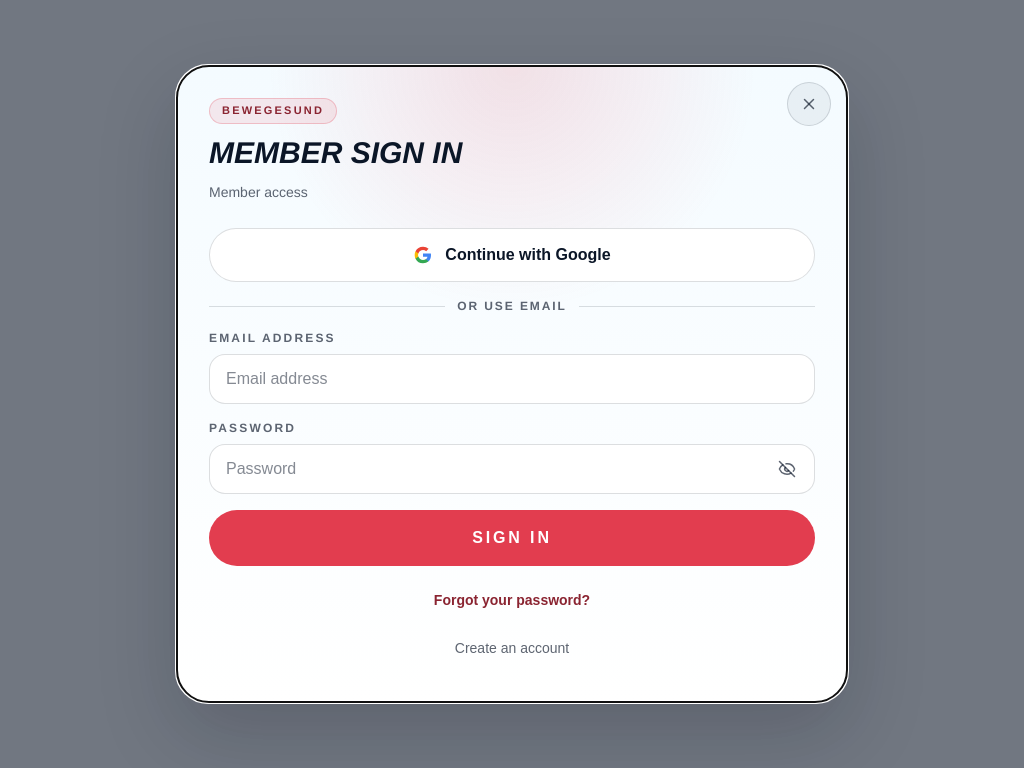
Test case: AuthModal Google sign-in › opens registration without reCAPTCHA copy
The width and height of the screenshot is (1024, 768).
Click the button "Create an account". click: click(512, 648)
box: [209,626,815,670]
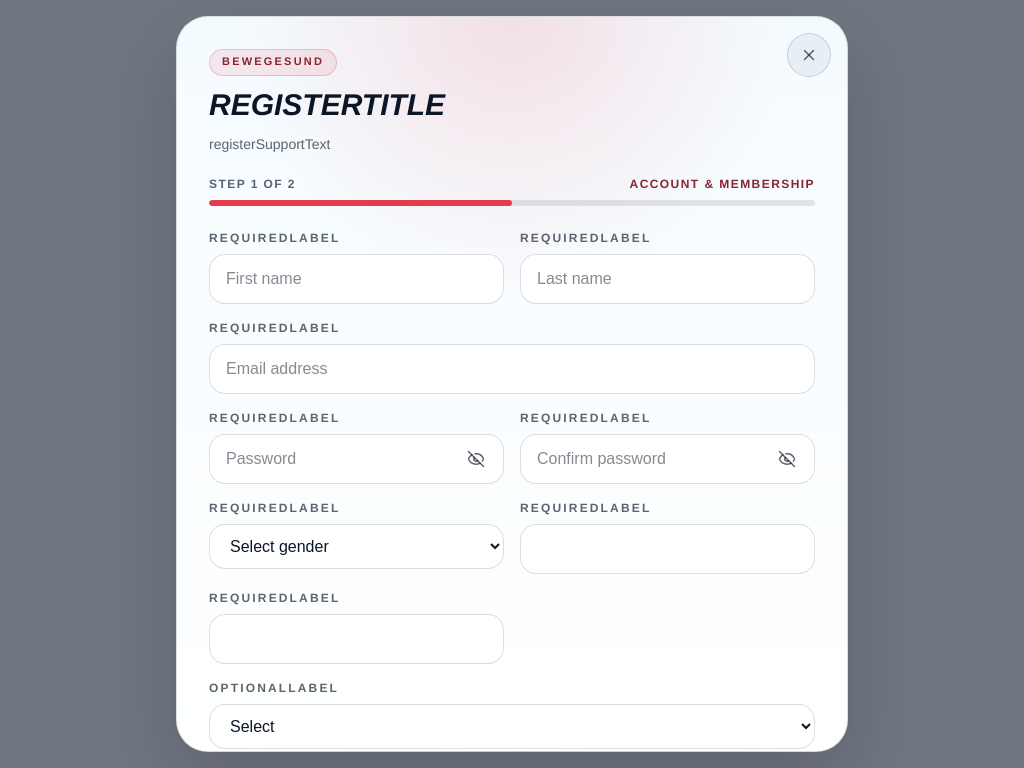
Expected: the text "Step 1 of 2" is shown, [209,176,296,192]
Expected: the heading "registerTitle" is shown, [209,88,445,122]
